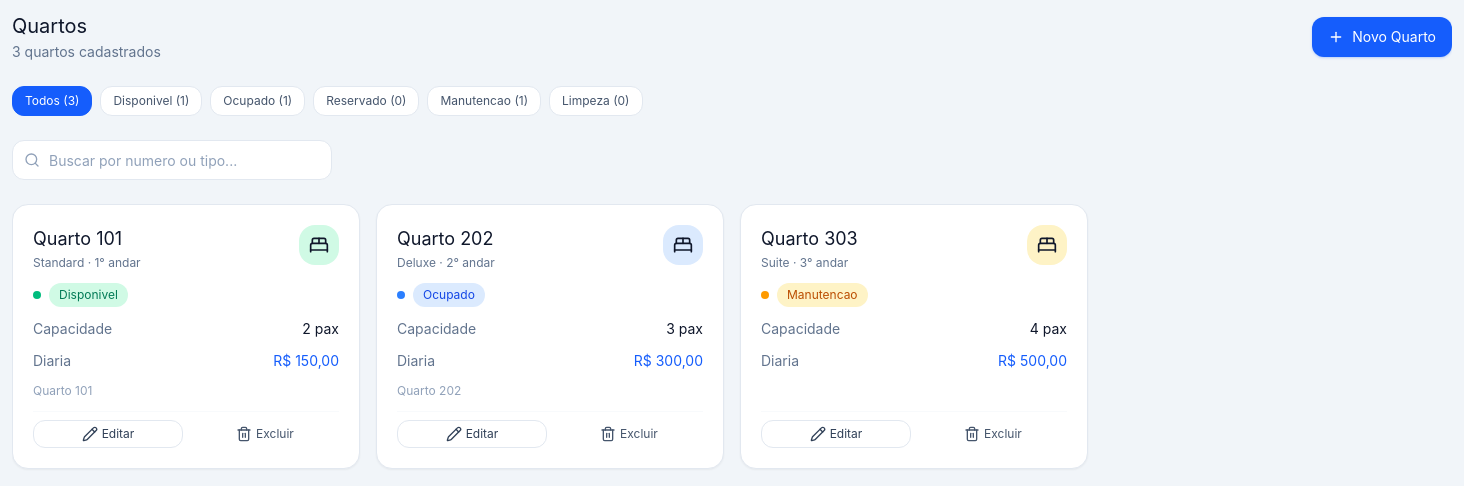
Test case: Quartos (expanded) › filters by search
Type "101" into the search field with placeholder "Buscar por numero ou tipo...". click: (172, 160)
box: [12,140,332,180]
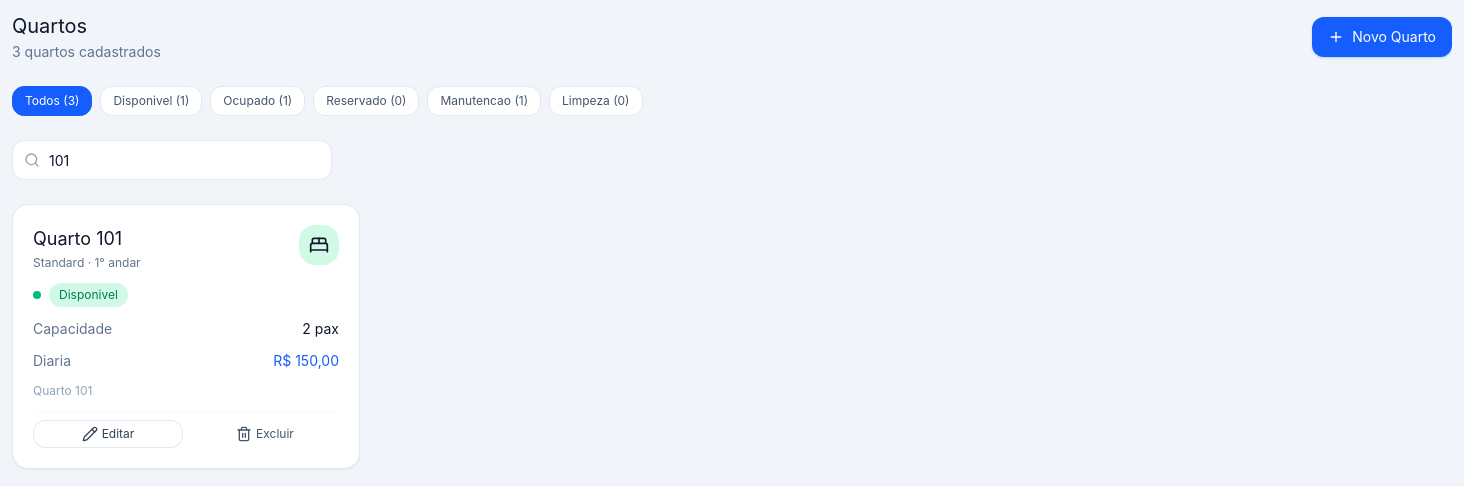
Check: the text "101" is shown, box [96,228,122,249]
Check: the text "202" is gone
